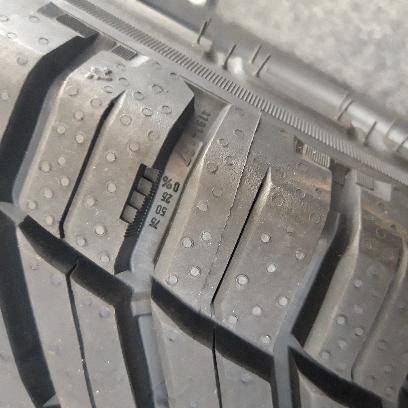temoin:100: (117, 162, 166, 240)
